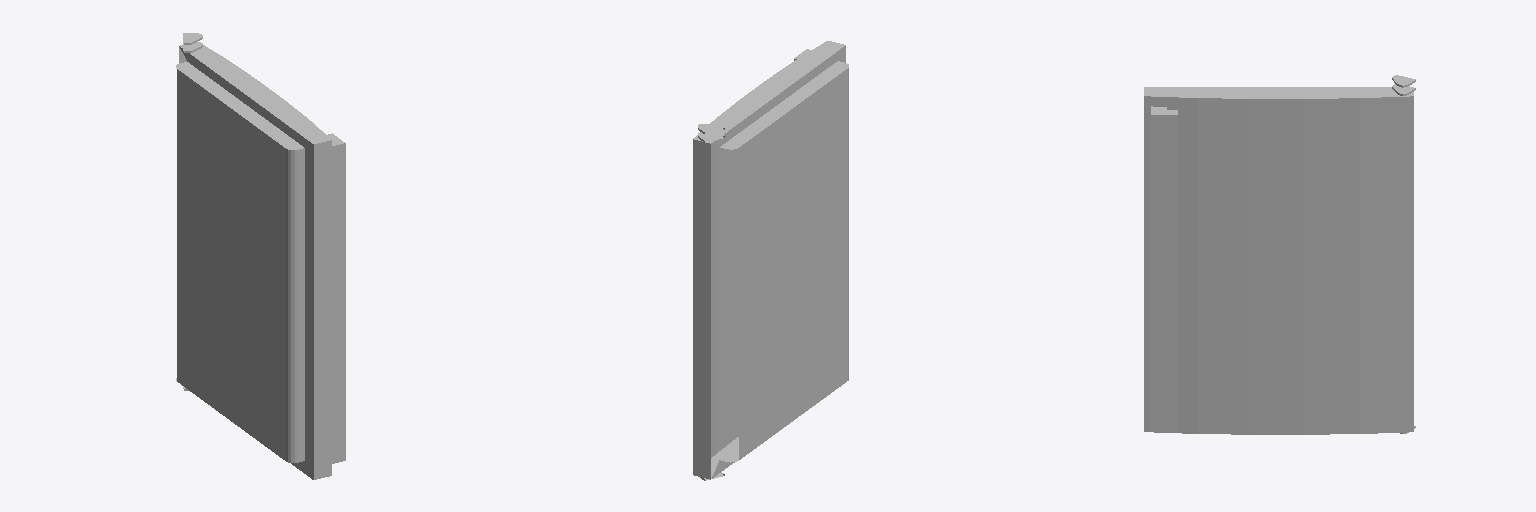
Rendered from PuertaRefri02.obj.
3 views of the same model, side by side, from view 1: azimuth 30°, elevation 25°; view 2: azimuth 150°, elevation 25°; view 3: azimuth 270°, elevation 25° (orthographic).
Parts seen in each view (by area): view 1: polySurface72; view 2: polySurface72; view 3: polySurface72.
Part boxes in pixels (x1,y1,x2,y2): polySurface72: (176,33,345,479); polySurface72: (693,41,848,480); polySurface72: (1144,75,1415,434).
Size of the model in its own units: 0.0912 by 0.5997 by 0.4239.